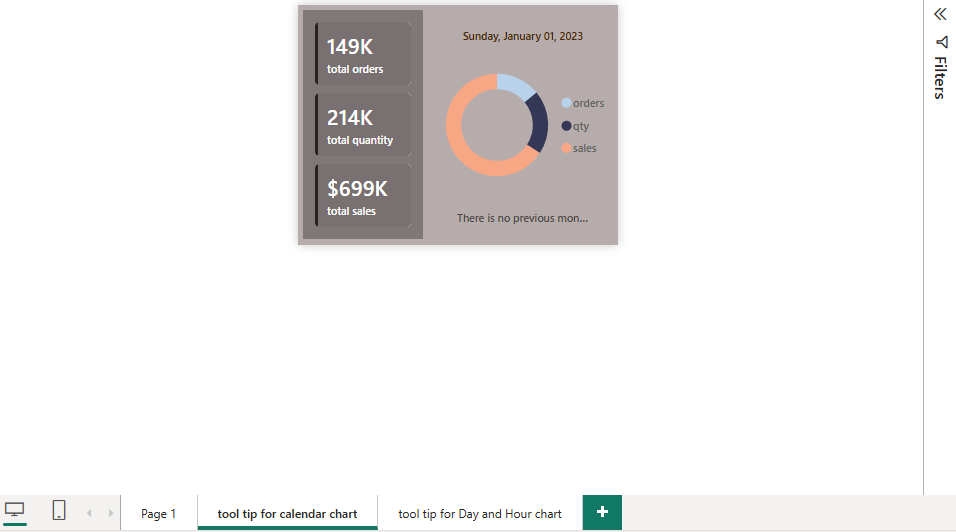

This screenshot's page, from the dashboard's own definition file:
{"tool":"powerbi","page":{"name":"tool tip for  calendar chart","canvas":[320,240],"ordinal":1},"visuals":[{"type":"cardVisual","fields":{"Data":["fast_food_sales.total_orders","fast_food_sales.total_quantity","fast_food_sales.total_sales"]},"box":[0,0,130,240],"z":0},{"type":"donutChart","fields":{"Y":["fast_food_sales.total orders","fast_food_sales.total quantity","fast_food_sales.total sales"]},"box":[130,0,190,240],"z":1000},{"type":"cardVisual","fields":{"Data":["Min(DATE_Table.Date)"]},"box":[130,0,190,58],"z":2000},{"type":"cardVisual","fields":{"Data":["fast_food_sales.sales_MOM_grouth_&_months_difference"]},"box":[130,182,190,58],"z":3000}]}

Visuals, with their boxes on the page's 320x240 design canvas (x1, y1, x2, y2). These are canvas units, not pixel positions in the 956x532 screenshot, which may show the page scaled, cropped or inside an application window:
cardVisual - fast_food_sales.total_orders x fast_food_sales.total_quantity: bbox=[0, 0, 130, 240]
donutChart - fast_food_sales.total orders x fast_food_sales.total quantity: bbox=[130, 0, 320, 240]
cardVisual - Min(DATE_Table.Date): bbox=[130, 0, 320, 58]
cardVisual - fast_food_sales.sales_MOM_grouth_&_months_difference: bbox=[130, 182, 320, 240]
